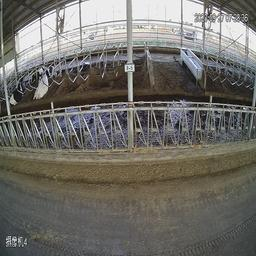cow: (8, 82, 27, 106), (34, 74, 48, 100)
